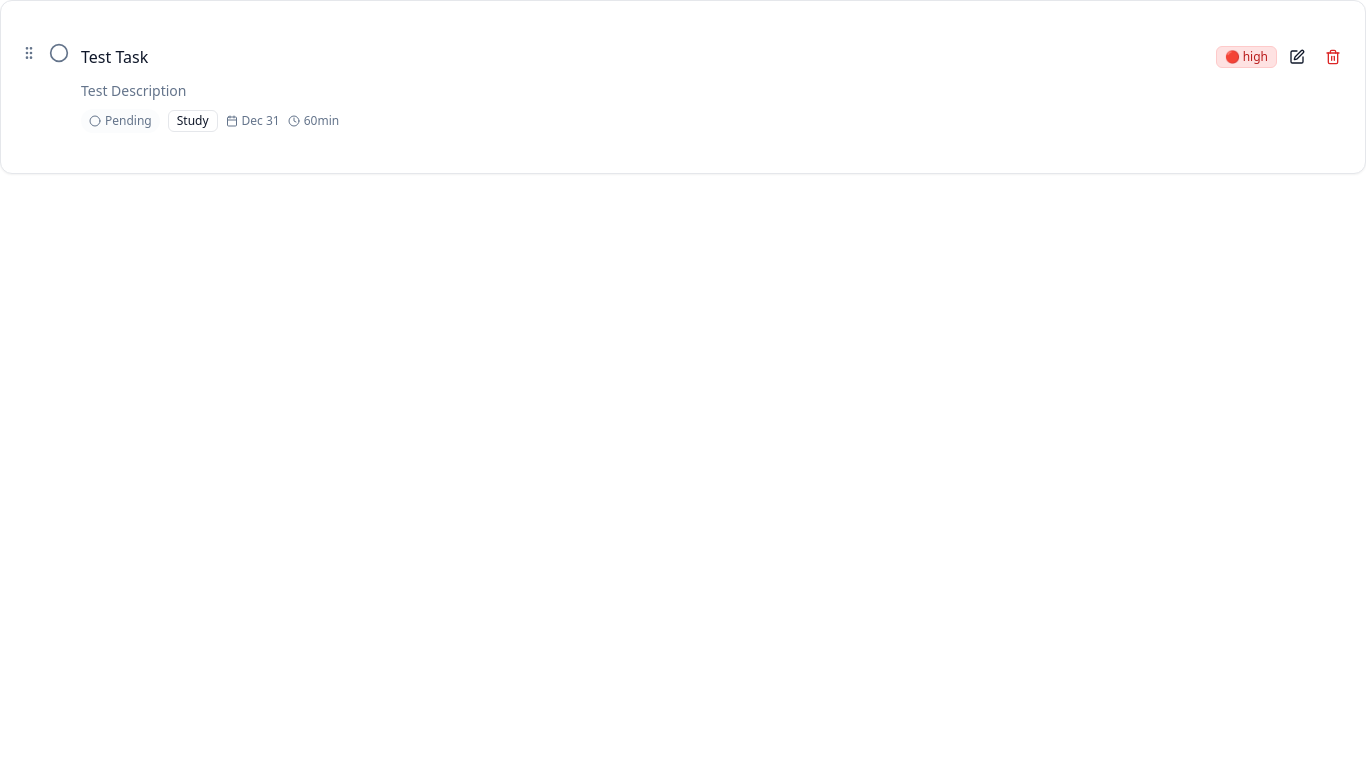
Test: TaskItem › shows delete confirmation dialog
What coordinates should you click on to do the following:
click the button named "delete task"
I would click on:
 (1333, 57)
Its box is [1317,41,1349,73].
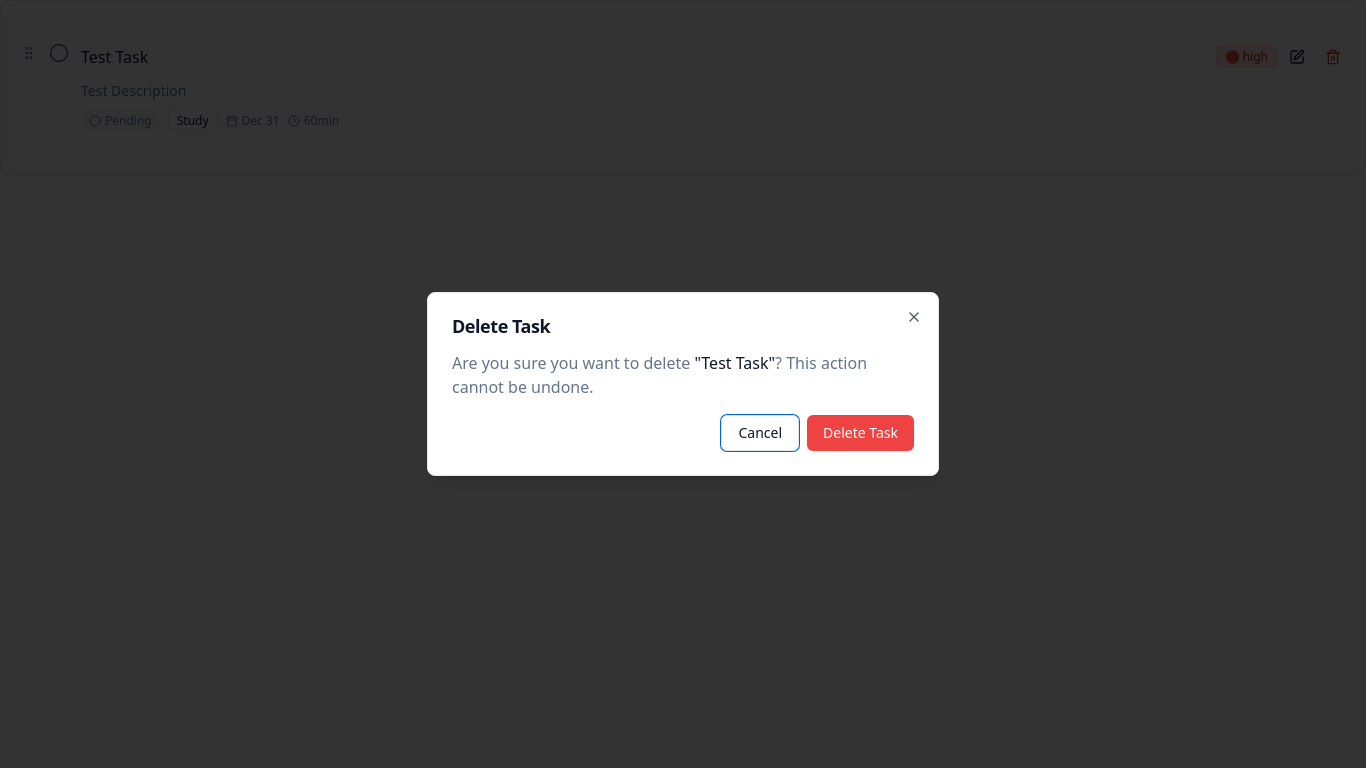
Check: the dialog is shown, box [427,292,939,476]
Check: the text "Are you sure you want to delete" is shown, box [452,352,694,374]
Check: the text "\"Test Task\"" is shown, box [694,352,775,374]
